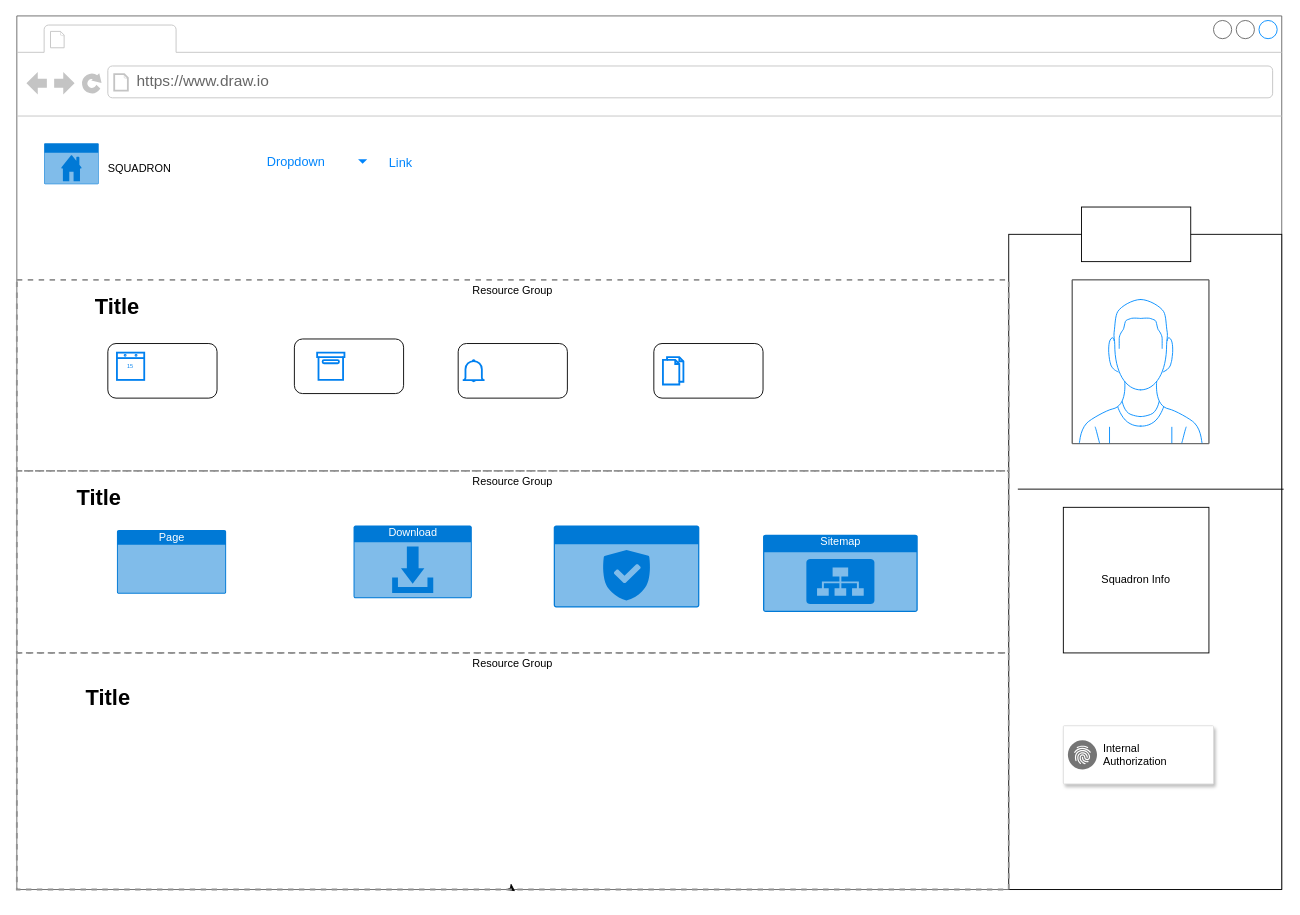
This 1300x915 diagram has some shape labels left out. Each missing label, with the centre of its shape:
"Home" belongs at [71,163].
"Page 1" belongs at [121,38].
"Page Hacks" belongs at [1136,234].
"Security" belongs at [626,566].
